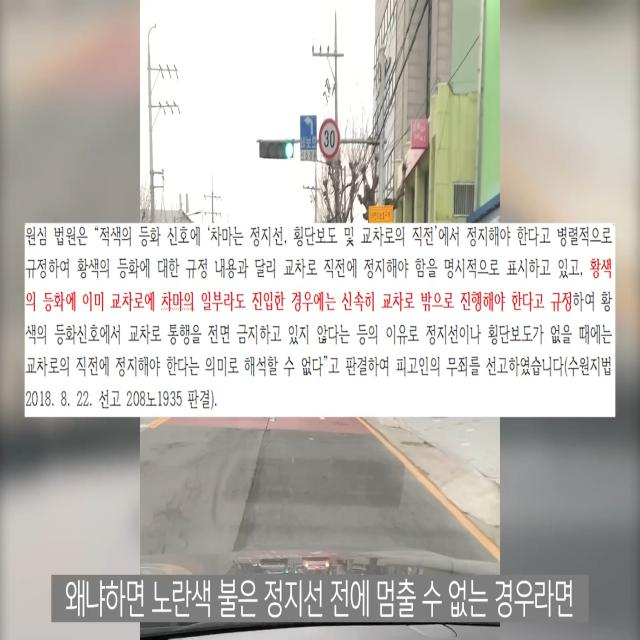Green Light: (282, 138, 294, 160)
